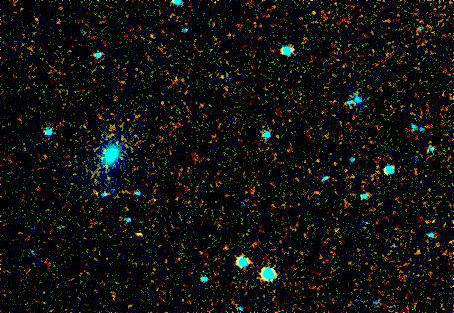star: (124, 221, 154, 251)
